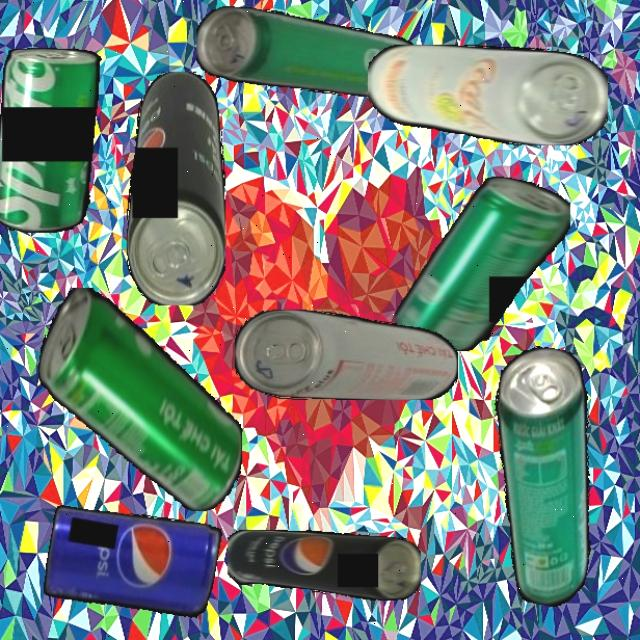debris: (37, 287, 242, 511), (462, 341, 624, 611), (395, 176, 570, 351), (367, 44, 608, 146), (0, 46, 132, 232), (126, 70, 225, 306), (41, 499, 222, 623), (196, 5, 424, 97), (235, 309, 458, 400), (226, 530, 421, 600)
